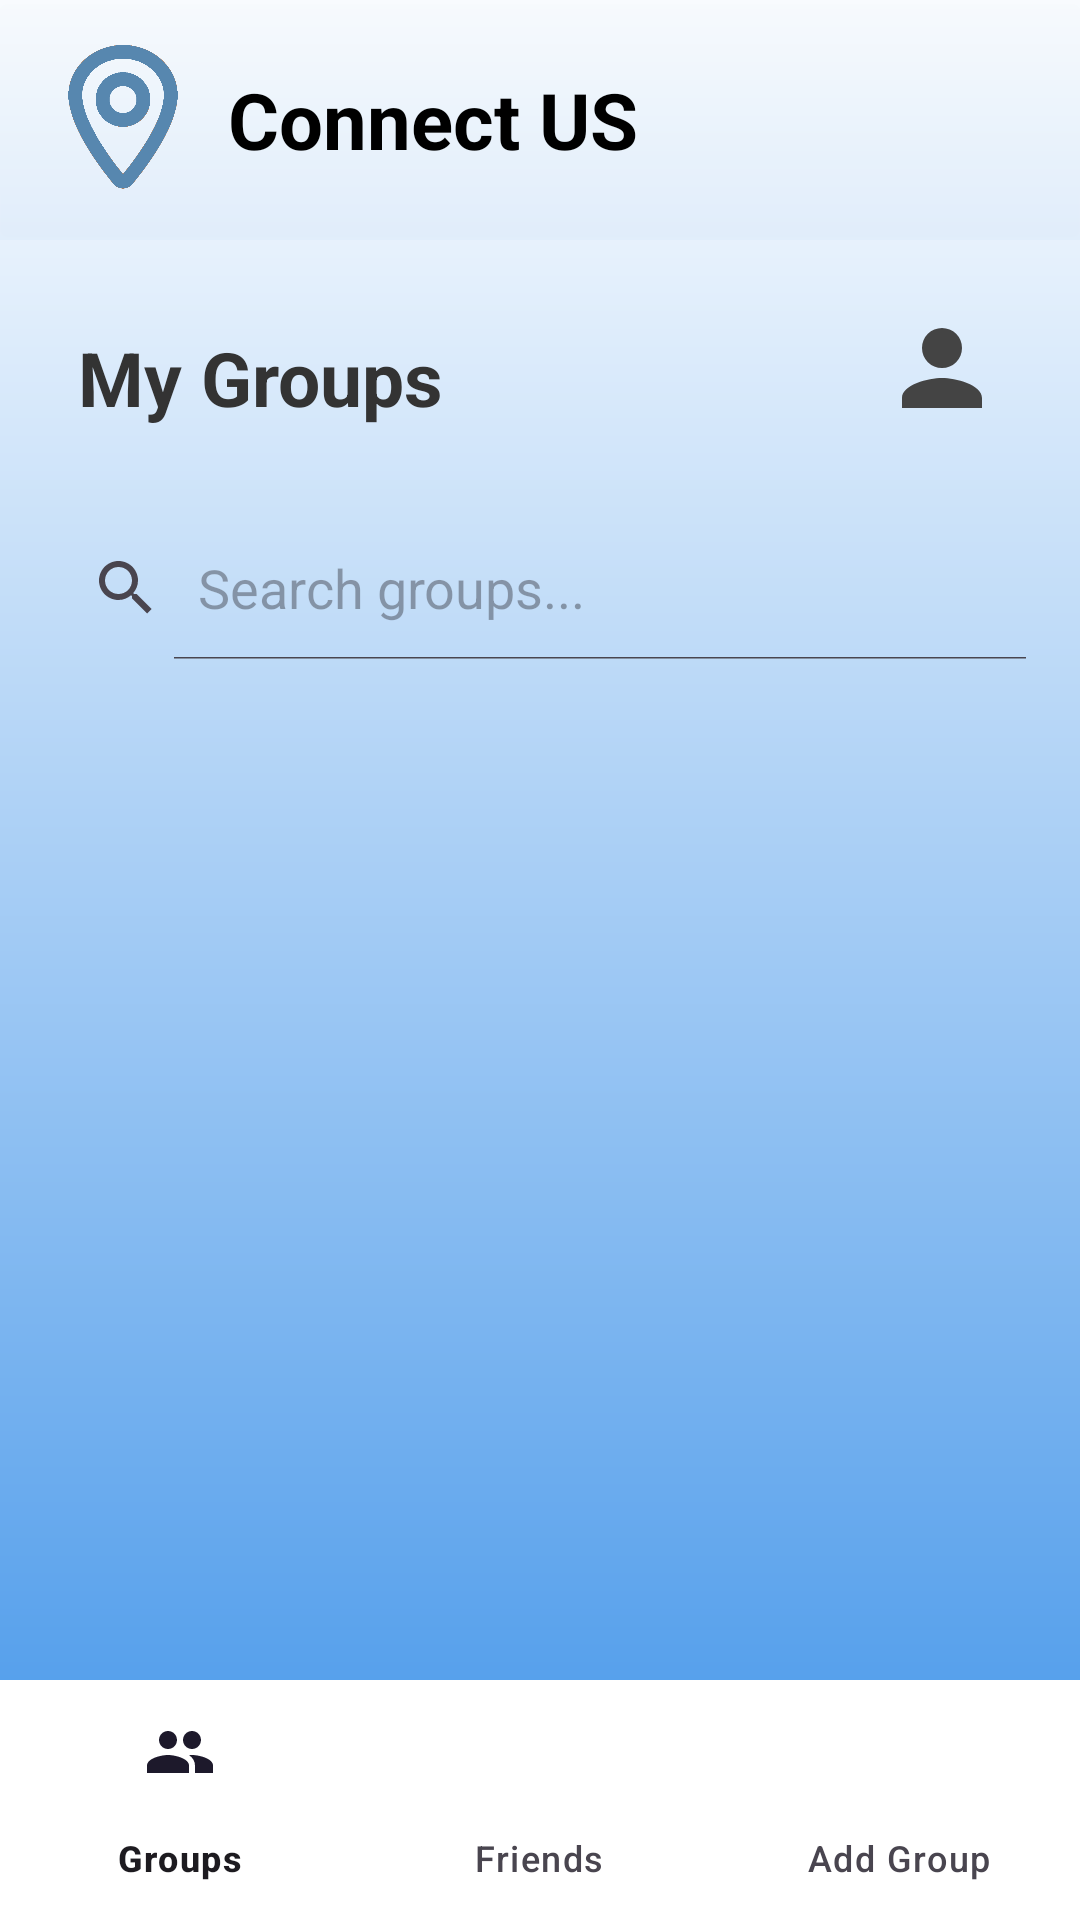

Named icons in this screenshot (1080x1920) and their bounding boxes, (x1, y1, x2, y2):
user: (902, 328, 982, 408)
